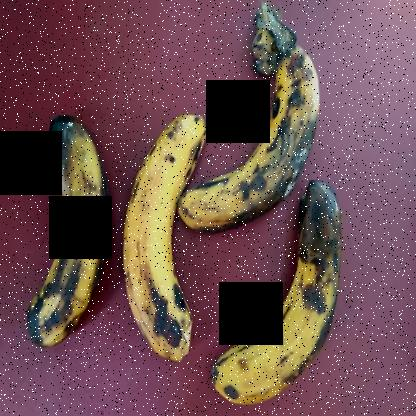overripe: (113, 94, 212, 384)
rotten: (210, 170, 356, 415), (189, 0, 323, 239), (6, 107, 116, 357)
